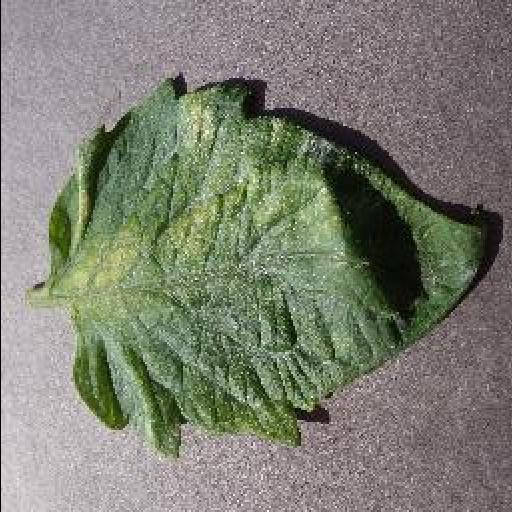disease_tomato: (46, 73, 490, 459)
